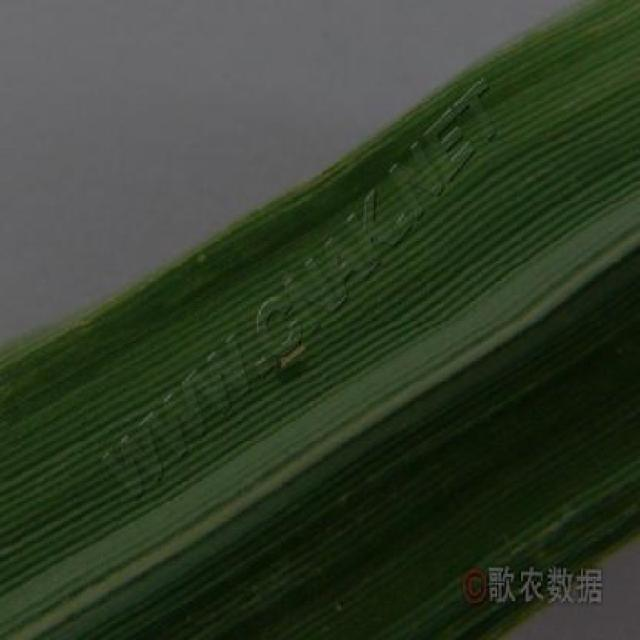leaf-folder: (274, 342, 317, 371)
